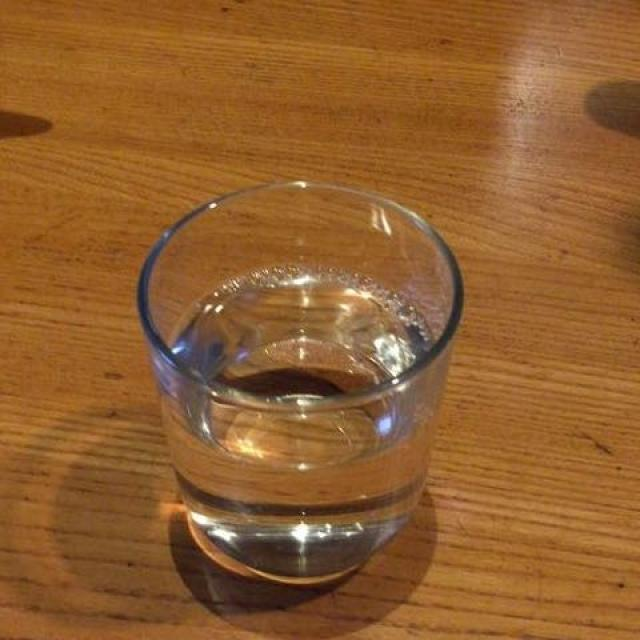water: (164, 251, 444, 571)
